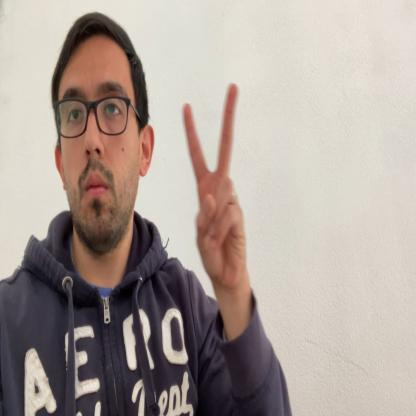V: (183, 81, 247, 287)
